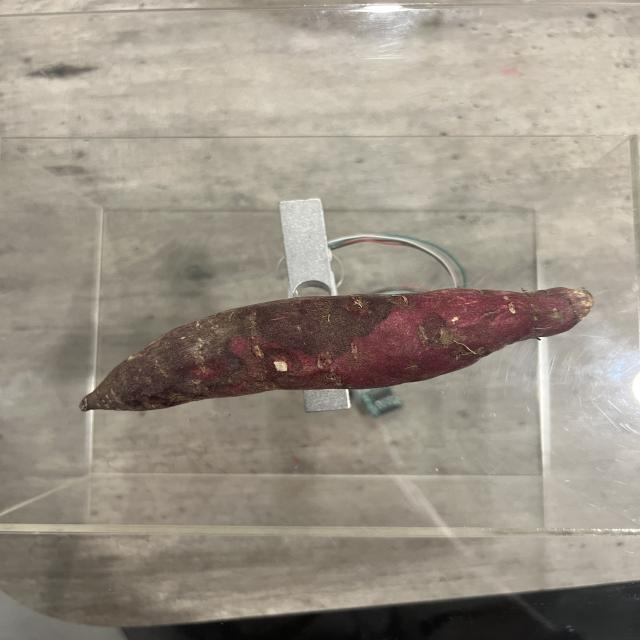sweet potato: (96, 289, 580, 416)
